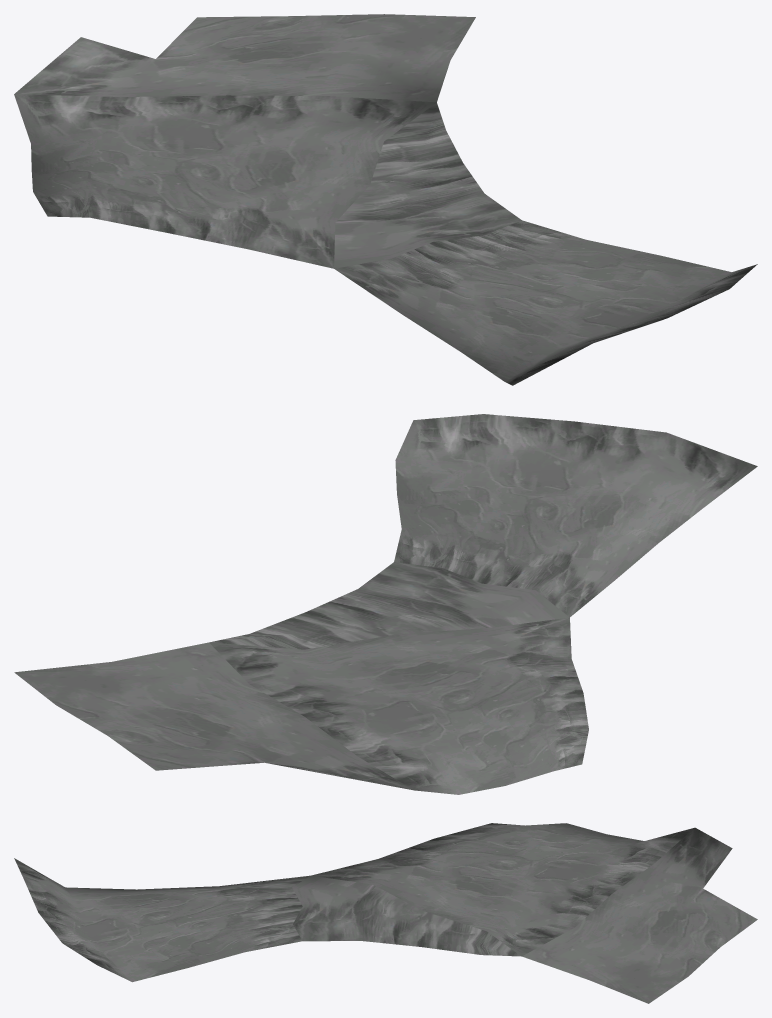
File: SWORDLIGHT20_PS-AREA03_149.fbx
The picture shows the model from 3 angles, top to bottom: view 1: azimuth 30°, elevation 25°; view 2: azimuth 150°, elevation 25°; view 3: azimuth 270°, elevation 25°; orthographic projection. The views are drawn at different scales.
Parts seen in each view (by area): view 1: SWORDLIGHT20_PS-AREA03_149; view 2: SWORDLIGHT20_PS-AREA03_149; view 3: SWORDLIGHT20_PS-AREA03_149.
Boxes of the visible parts, x1,y1,x2,y2 form: SWORDLIGHT20_PS-AREA03_149: [14, 14, 757, 385]; SWORDLIGHT20_PS-AREA03_149: [14, 414, 757, 794]; SWORDLIGHT20_PS-AREA03_149: [14, 823, 757, 1003].
Bounding box in the file's own units: 120625 × 11408 × 192484.
3 materials, 3 textured.
